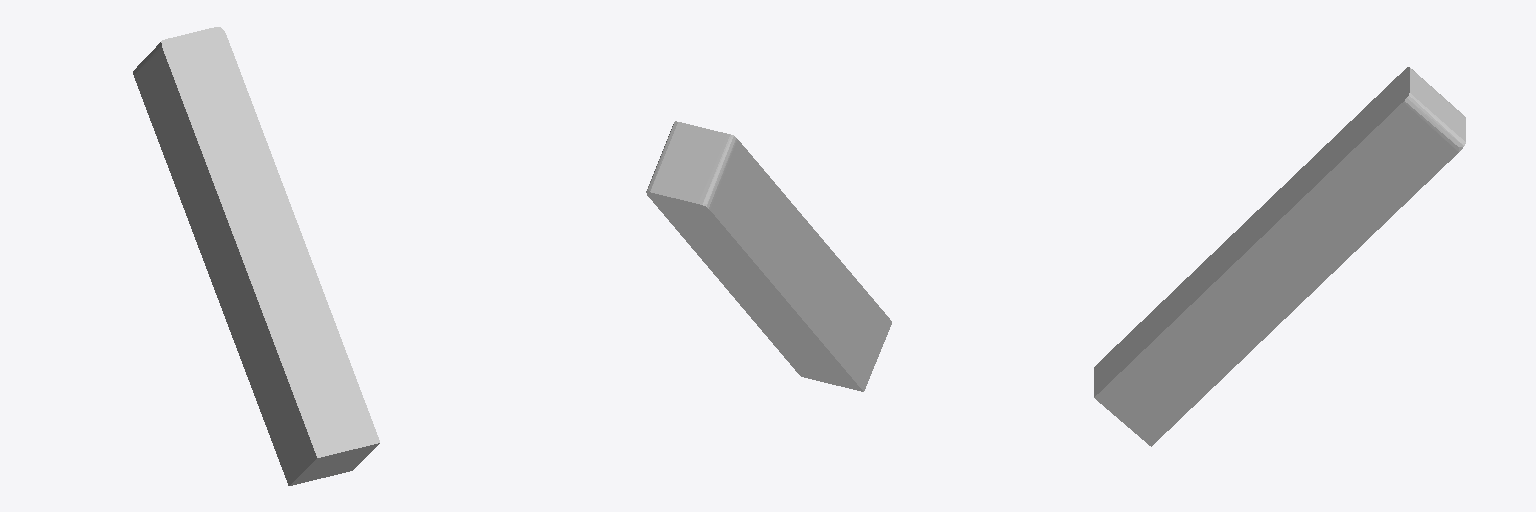
Rendered from Carbon_Mov_Finger_021_v1_1_mesh_collision_10.obj.
3 renders of one model, left to right at view 1: azimuth 30°, elevation 25°; view 2: azimuth 150°, elevation 25°; view 3: azimuth 270°, elevation 25°, orthographic.
Bounding box in the file's own units: 0.0033 × 0.0174 × 0.0167.